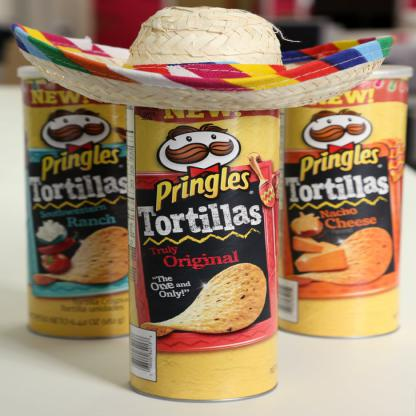potatochip: (116, 49, 286, 408), (6, 56, 158, 344), (265, 58, 410, 346)
